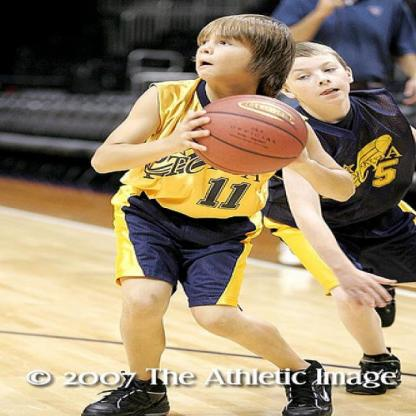basketball: (190, 96, 311, 172)
